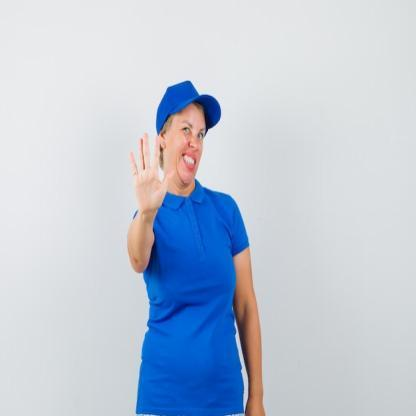stop: (126, 128, 178, 218)
